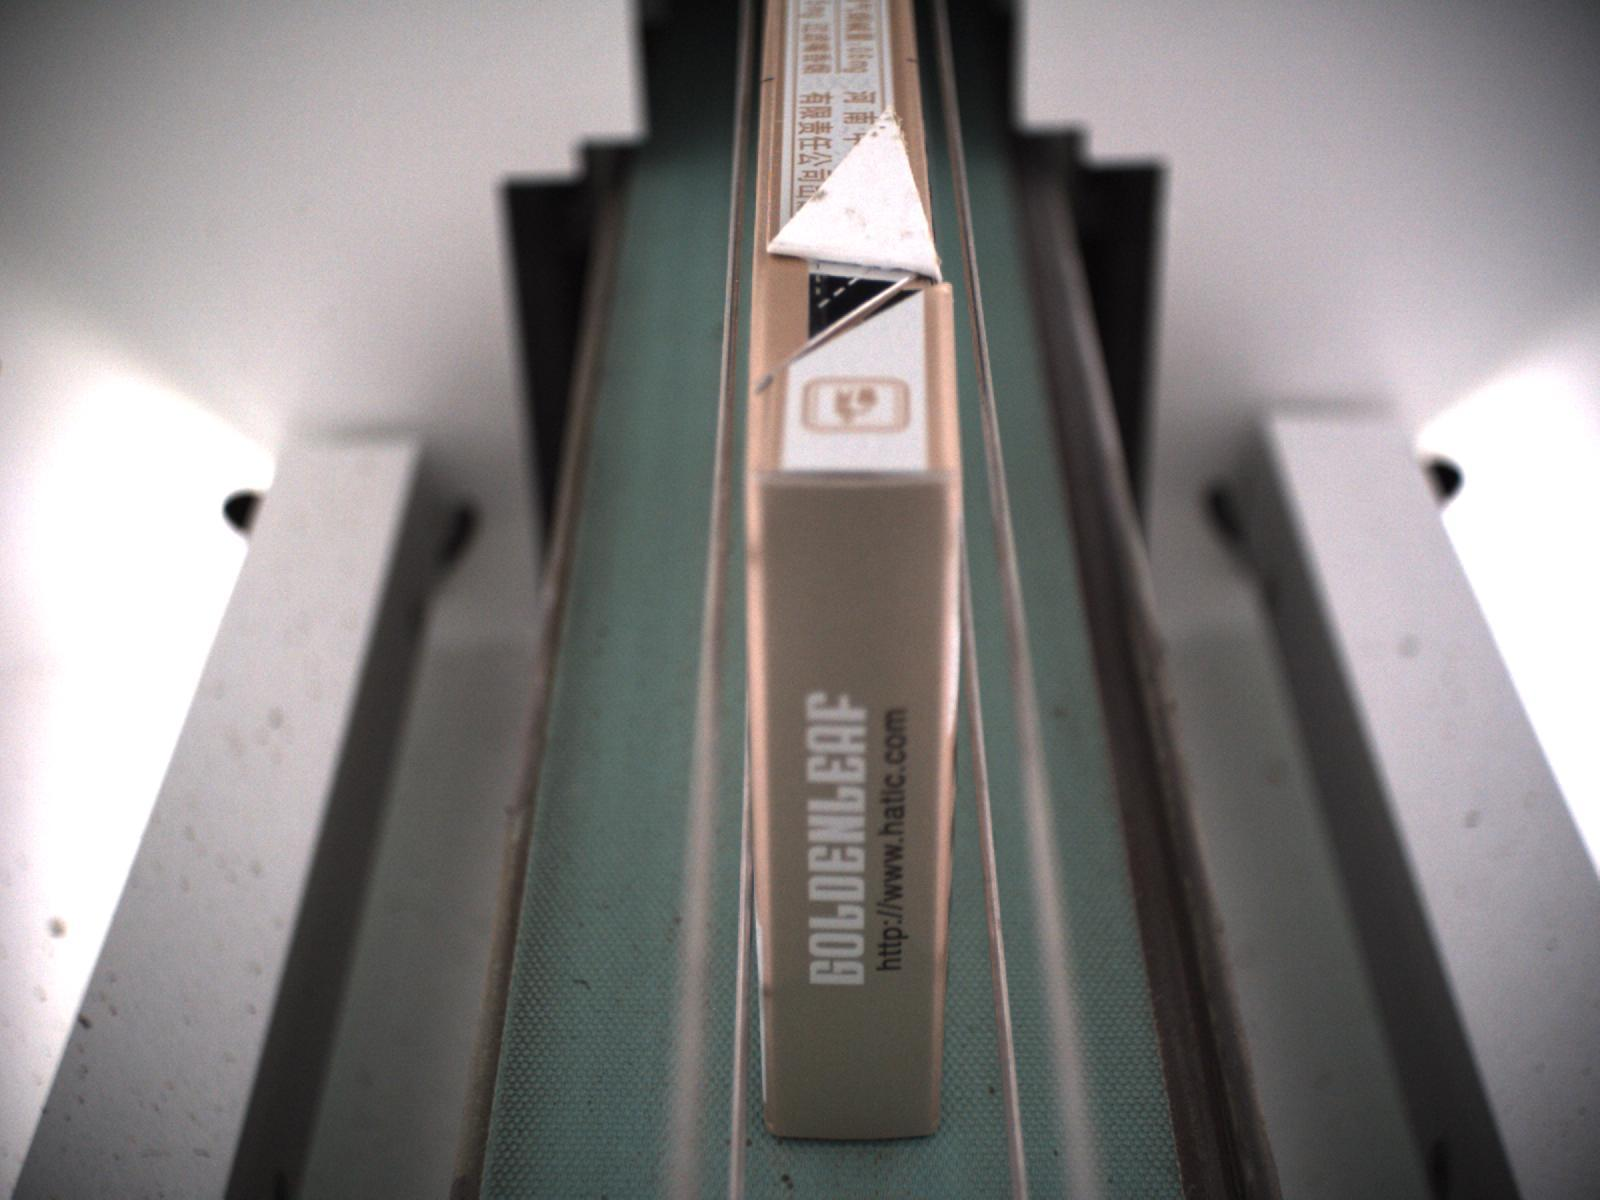outerFold_upper_2: (755, 105, 952, 395)
